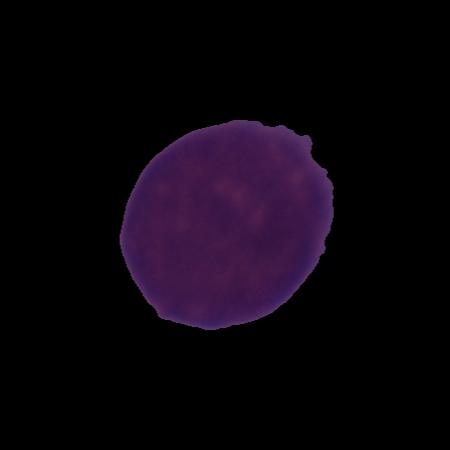ALL: (114, 116, 338, 334)
